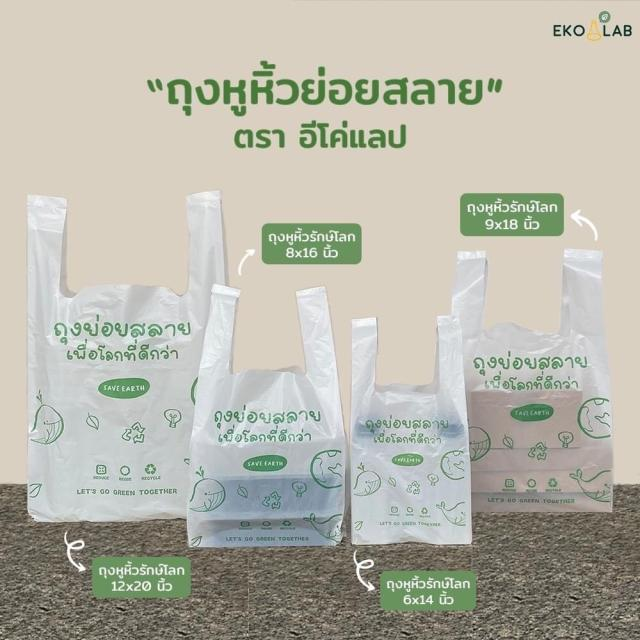Single-layer Plastic: (28, 191, 225, 521), (452, 250, 612, 512), (188, 285, 346, 548), (350, 316, 471, 545)
